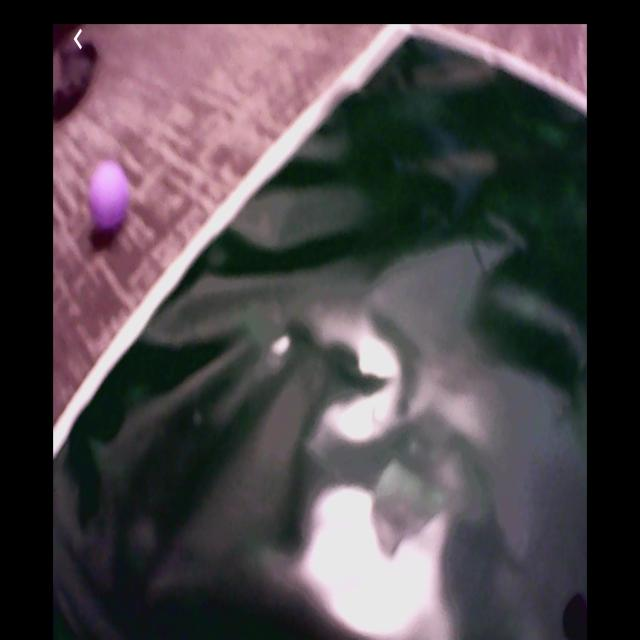ball: (89, 159, 130, 232)
